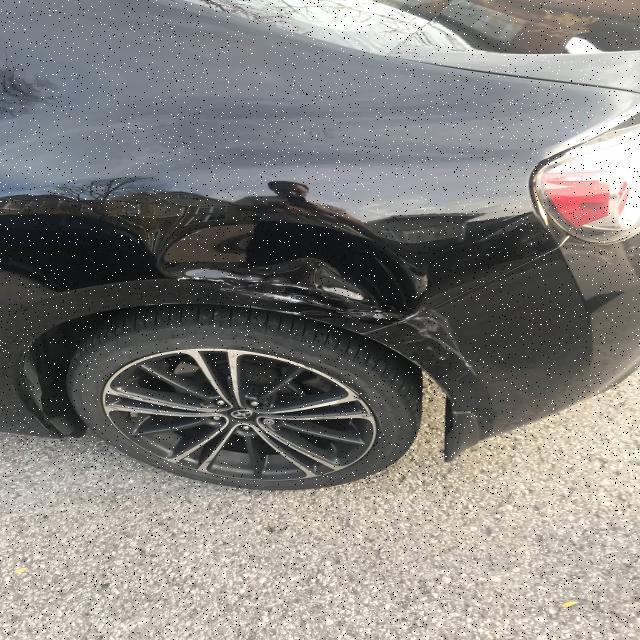quaterpanel-dent: (0, 177, 536, 403)
